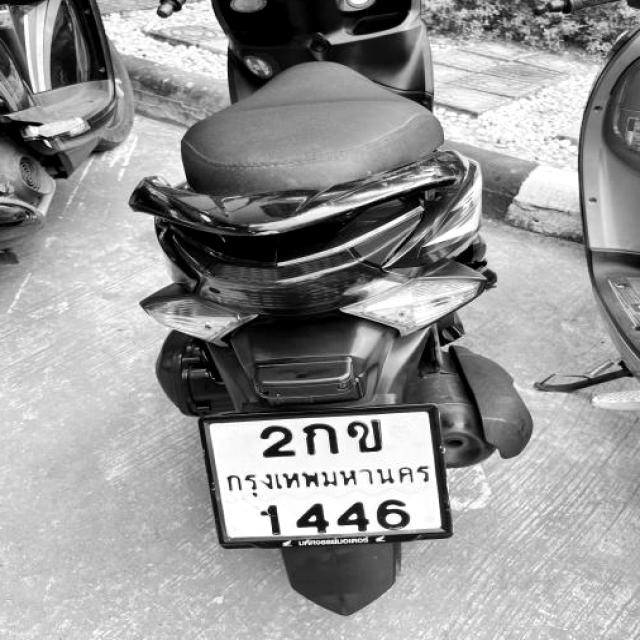letters: (252, 417, 303, 464), (376, 496, 422, 530), (299, 498, 333, 540), (307, 425, 341, 462), (352, 419, 387, 452), (342, 498, 377, 530), (261, 501, 286, 538)
license-plate: (205, 415, 442, 542)
province: (220, 466, 445, 488)
